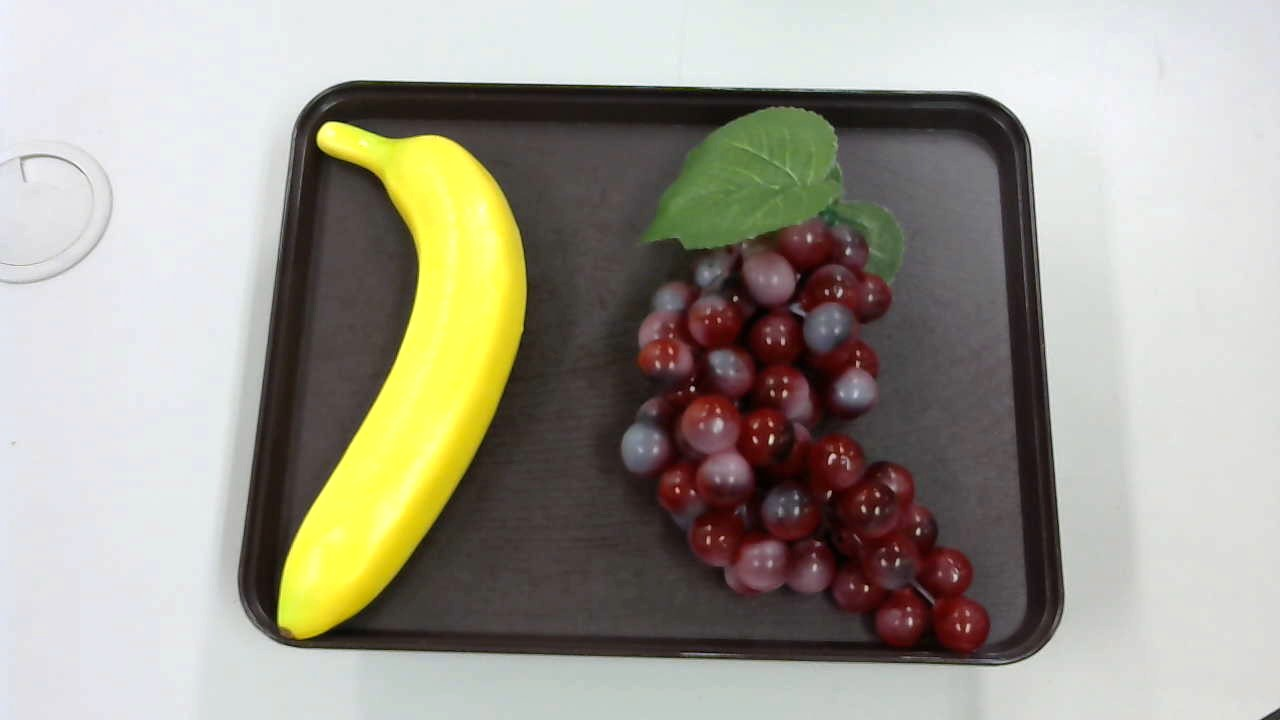banana: (268, 119, 529, 641)
grape: (608, 107, 1000, 671)
